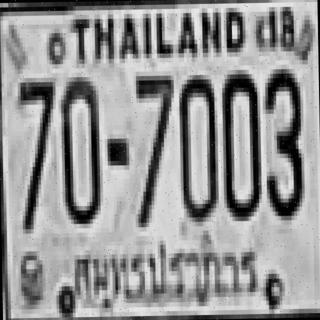N00: (176, 70, 216, 218), (219, 69, 259, 217), (59, 74, 99, 222)
N03: (262, 64, 302, 216)
N07: (133, 71, 173, 222), (16, 77, 54, 229), (133, 71, 172, 182)
P57: (69, 236, 262, 315)
